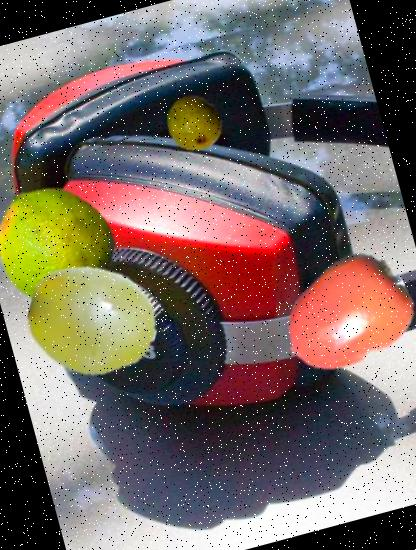Grape: (14, 243, 173, 402)
Guava: (159, 88, 230, 159)
Kaki: (266, 233, 416, 393)
Limes: (0, 169, 128, 317)
